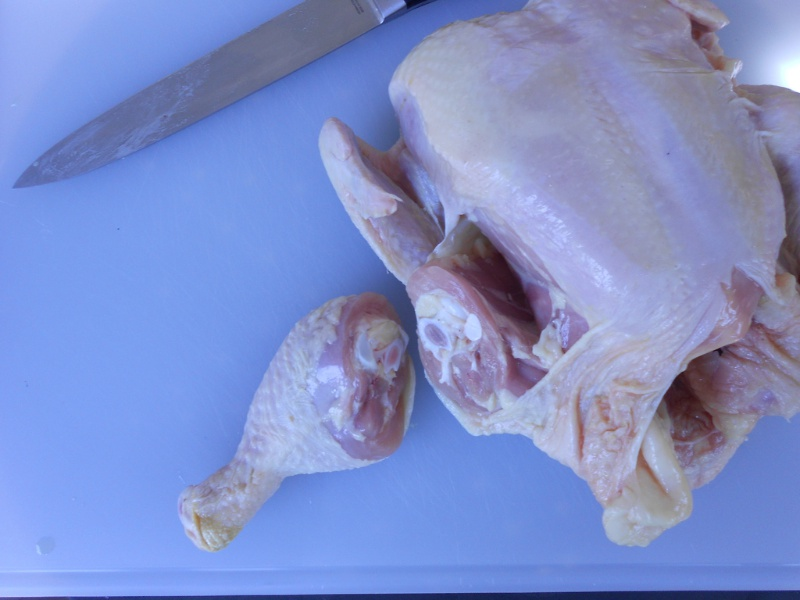knife: (6, 6, 427, 192)
